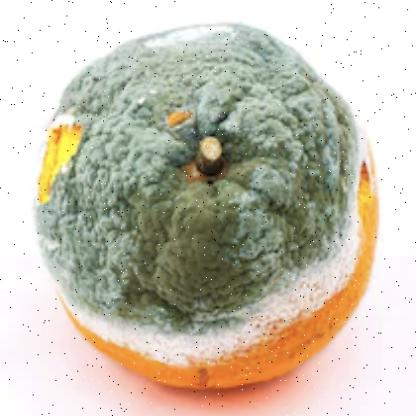rotten: (38, 25, 380, 391)
